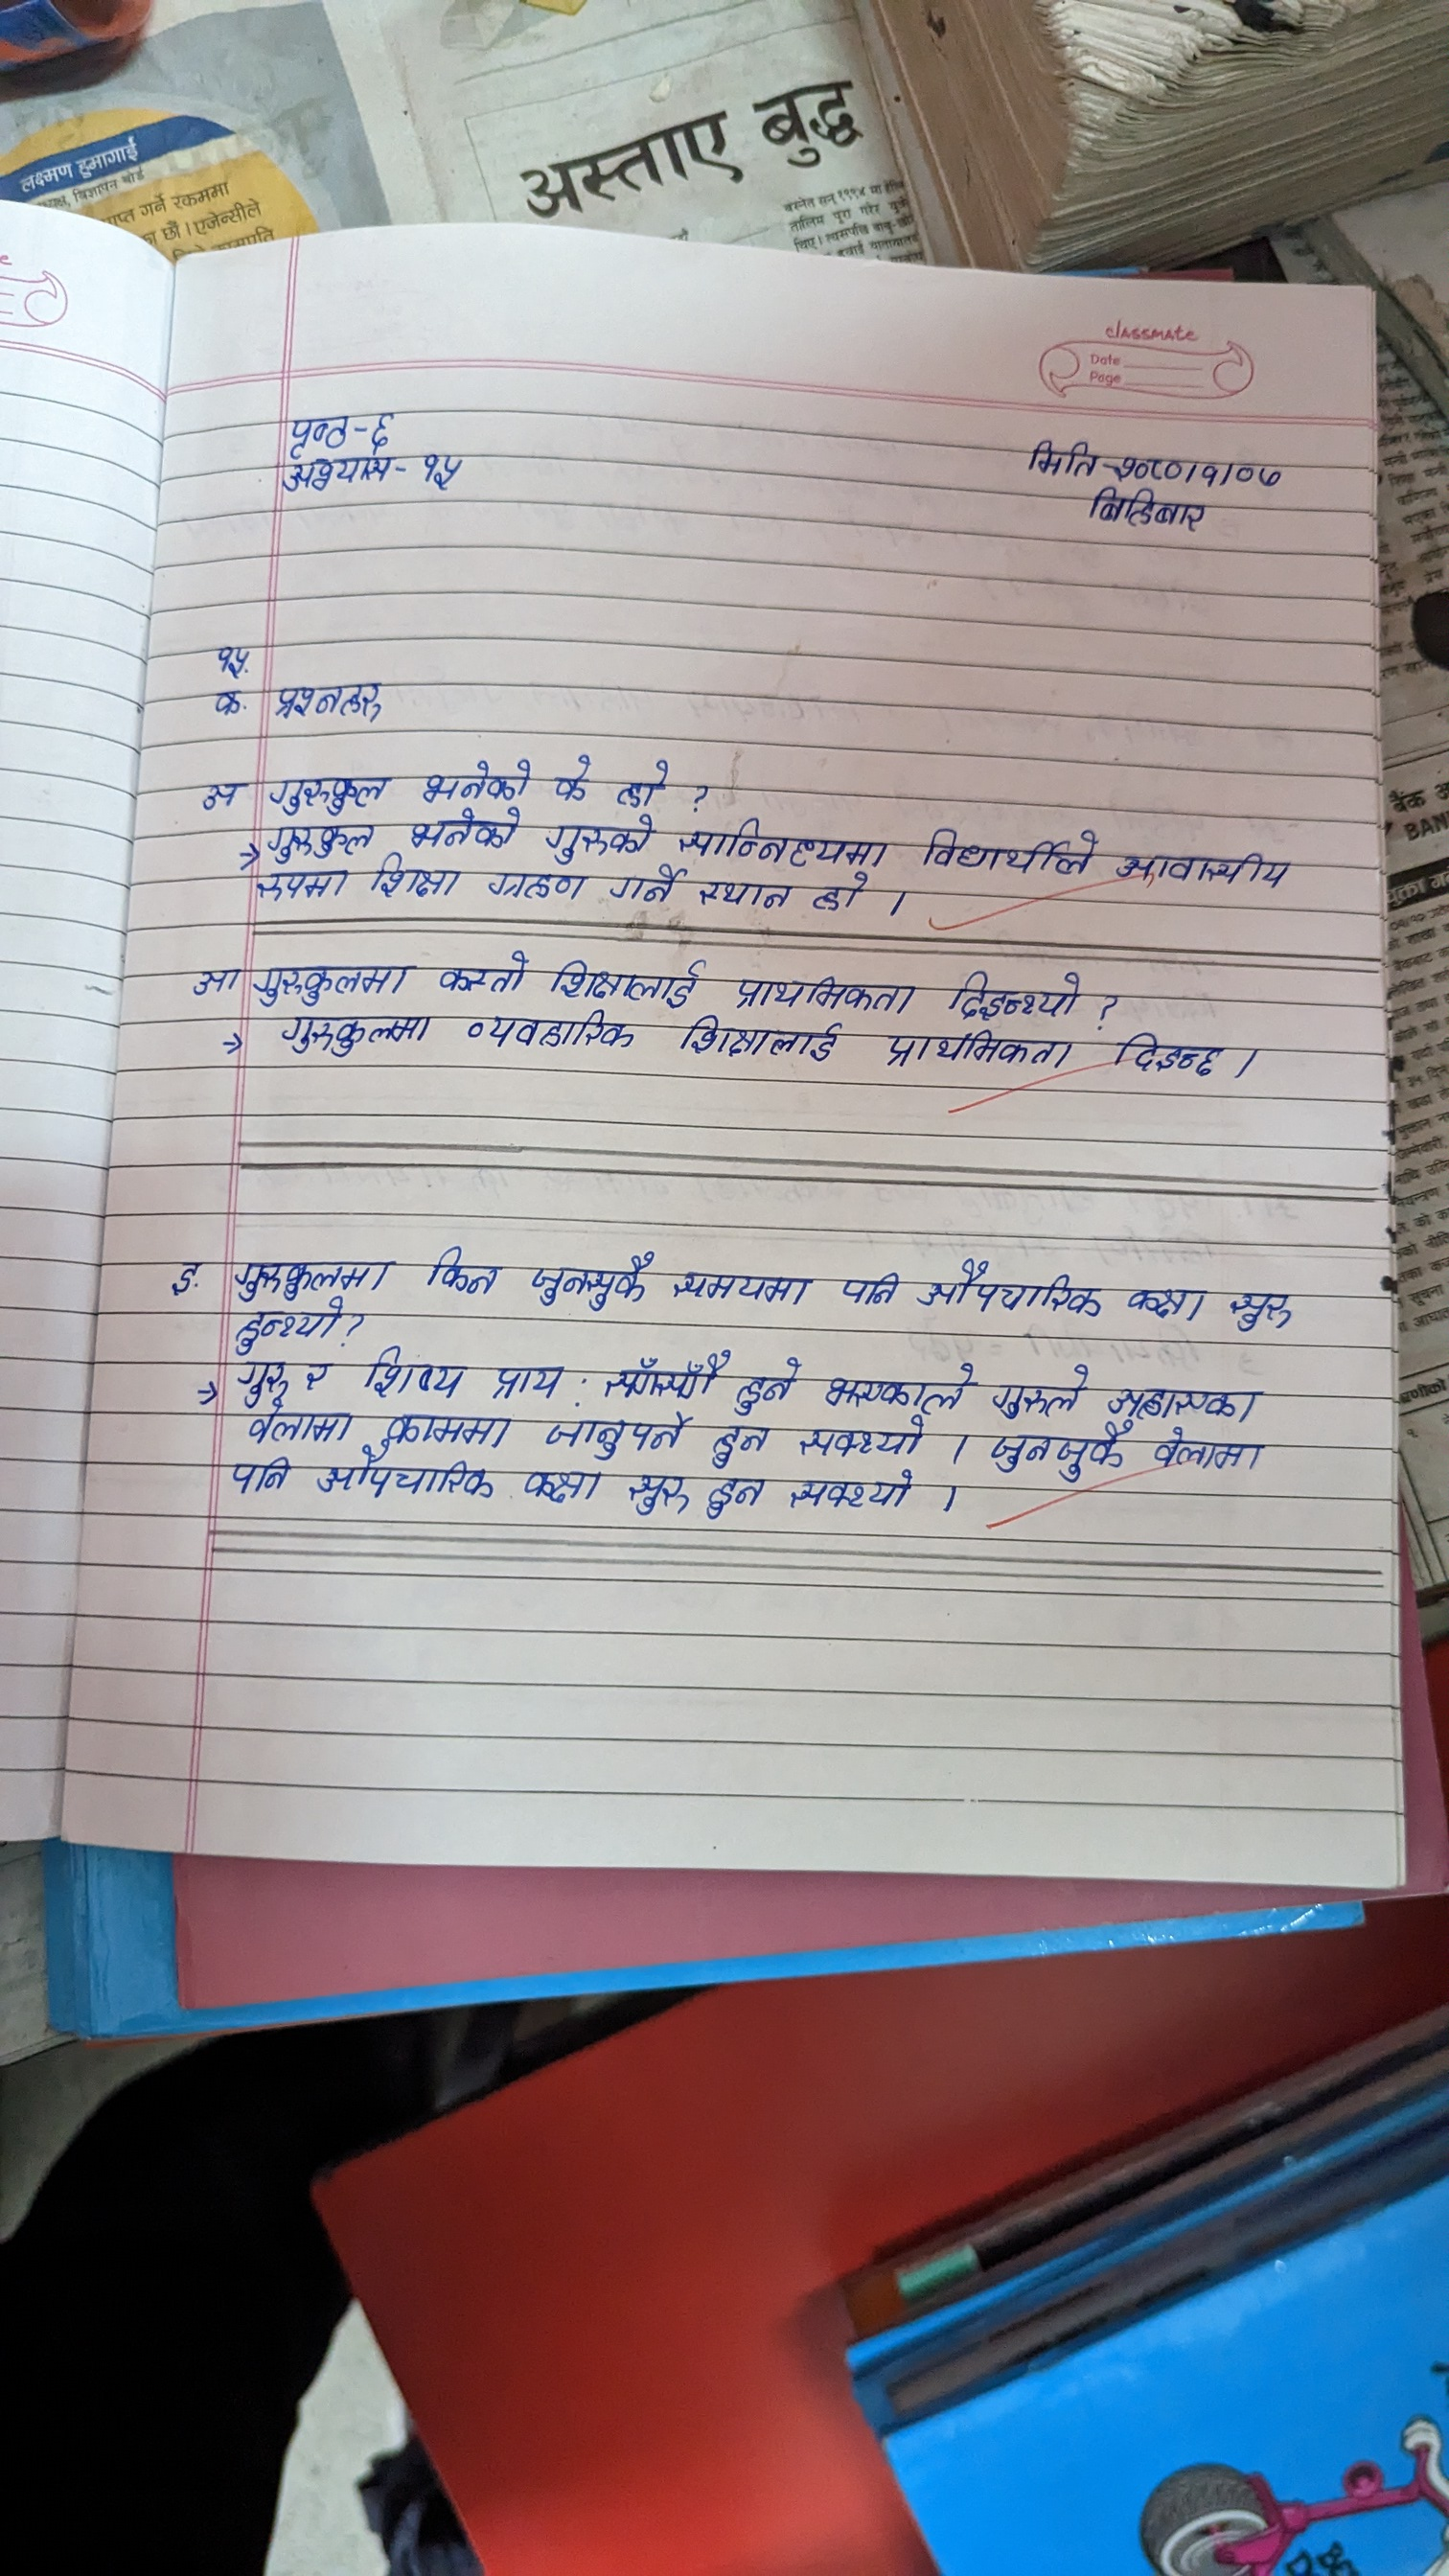text: (916, 1254, 1104, 1323), (672, 817, 893, 869), (913, 823, 1099, 883), (985, 1421, 1132, 1486), (317, 1451, 497, 1504), (878, 1030, 1072, 1076), (1109, 842, 1299, 888), (821, 1359, 971, 1415), (731, 970, 915, 1016), (676, 1017, 844, 1067), (938, 970, 1095, 1021), (552, 955, 701, 1008), (594, 1345, 725, 1405), (228, 1251, 387, 1299), (278, 1014, 433, 1062), (464, 1010, 639, 1053), (669, 1260, 816, 1309), (253, 961, 410, 1007), (545, 1414, 690, 1463), (524, 1253, 651, 1307), (361, 1341, 469, 1401), (789, 1468, 916, 1518), (1100, 1380, 1258, 1419), (1102, 1028, 1221, 1079), (232, 1302, 349, 1353), (414, 755, 533, 805), (269, 678, 389, 725), (1148, 1428, 1269, 1476), (989, 1361, 1088, 1417), (1086, 488, 1205, 534), (269, 771, 387, 817), (403, 810, 524, 853), (801, 1421, 932, 1460), (552, 816, 653, 863), (382, 1408, 508, 1445), (433, 950, 527, 996), (736, 1353, 805, 1415), (246, 1403, 352, 1442), (421, 1247, 504, 1297), (262, 823, 372, 860), (485, 867, 586, 906), (1125, 1277, 1207, 1325), (520, 1467, 607, 1511), (280, 456, 391, 490), (216, 1453, 297, 1499), (612, 752, 674, 810), (488, 1359, 566, 1405), (1021, 433, 1099, 478), (253, 869, 354, 902), (373, 862, 460, 901), (694, 878, 793, 911), (1226, 1286, 1293, 1332), (278, 410, 347, 455), (612, 870, 683, 913), (809, 874, 879, 915), (704, 1476, 764, 1523), (708, 1422, 770, 1468), (625, 1474, 686, 1520), (833, 1269, 902, 1309), (548, 747, 594, 803), (163, 1249, 211, 1302), (1120, 451, 1191, 483), (418, 449, 465, 495), (232, 1361, 290, 1398), (189, 966, 239, 1001), (1233, 458, 1286, 490), (200, 773, 239, 816), (211, 640, 257, 676), (211, 685, 248, 724), (301, 1359, 336, 1399), (366, 402, 396, 448), (1198, 448, 1224, 483)
